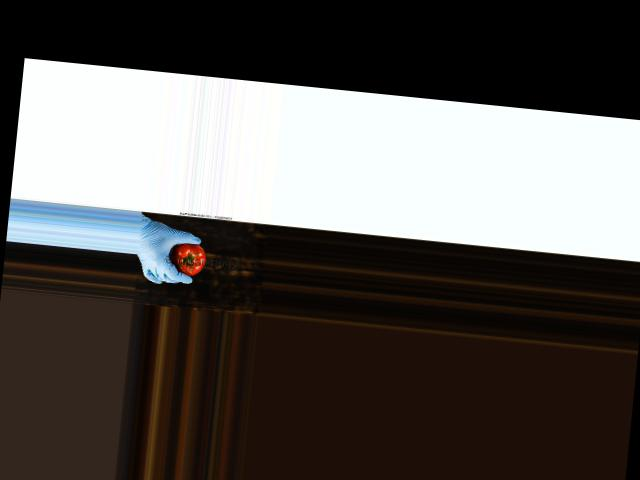tomato: (169, 241, 208, 277)
